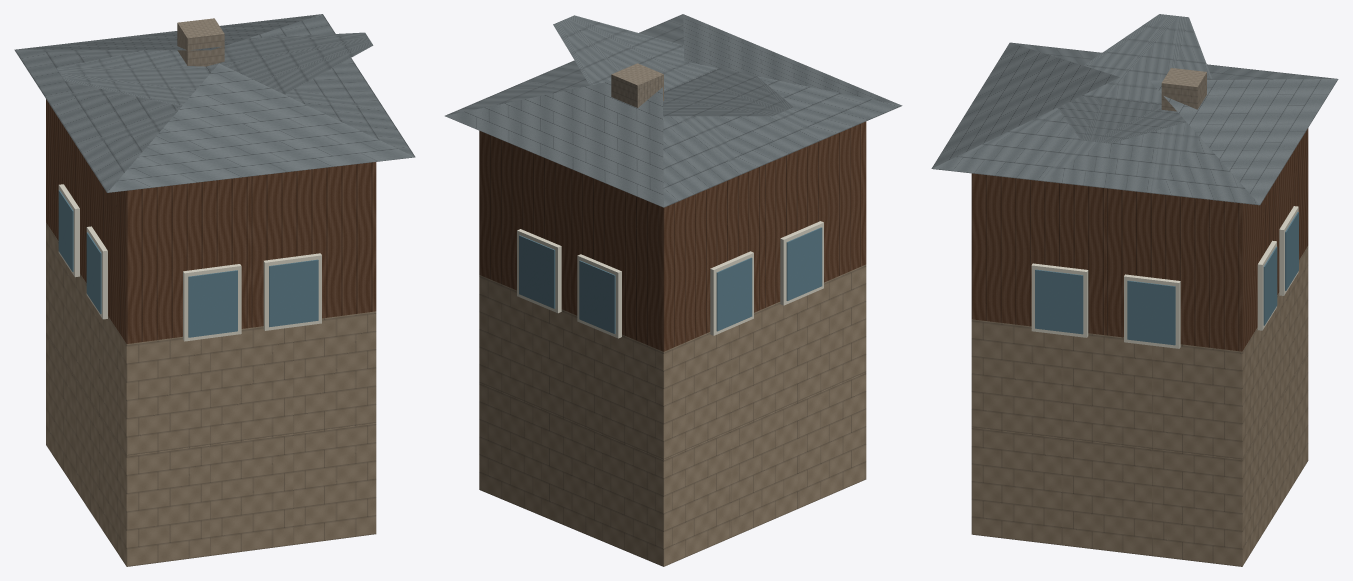
The model's file is core_0144.gltf.
3 views of the same model, side by side, from view 1: azimuth 30°, elevation 25°; view 2: azimuth 150°, elevation 25°; view 3: azimuth 270°, elevation 25° (orthographic). The views are drawn at different scales.
Parts seen in each view (by area): view 1: core_0144; view 2: core_0144; view 3: core_0144.
Boxes of the visible parts, <box> form: core_0144: <box>14,14,415,566</box>; core_0144: <box>445,14,902,566</box>; core_0144: <box>931,14,1338,566</box>.
Bounding box in the file's own units: 7.74 × 9.45 × 8.18.
Materials: 6 (6 with a texture image).
